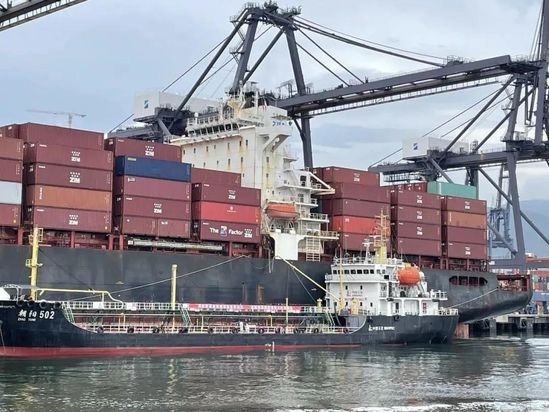Cargoship: (1, 90, 534, 332), (1, 214, 454, 358)
